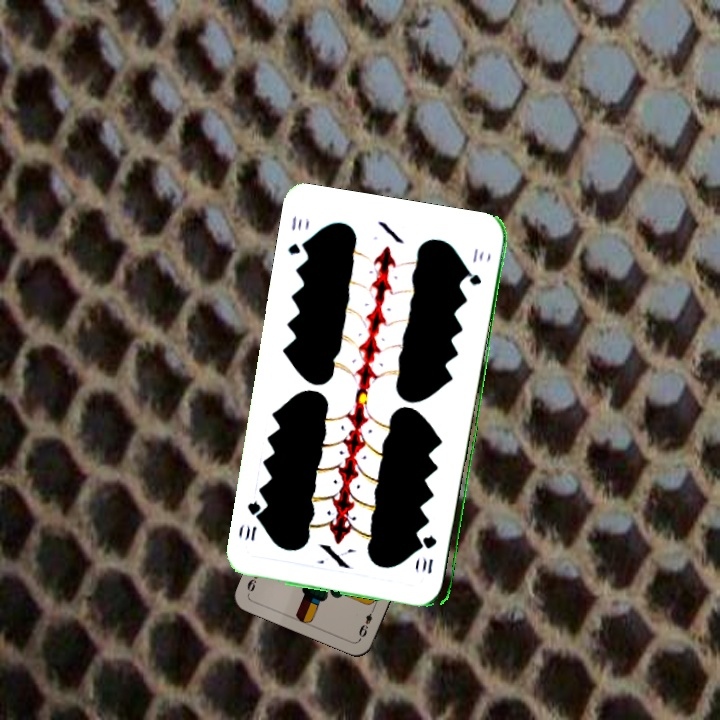E9: (355, 603, 377, 641)
G10: (284, 212, 311, 258), (418, 531, 439, 576)
